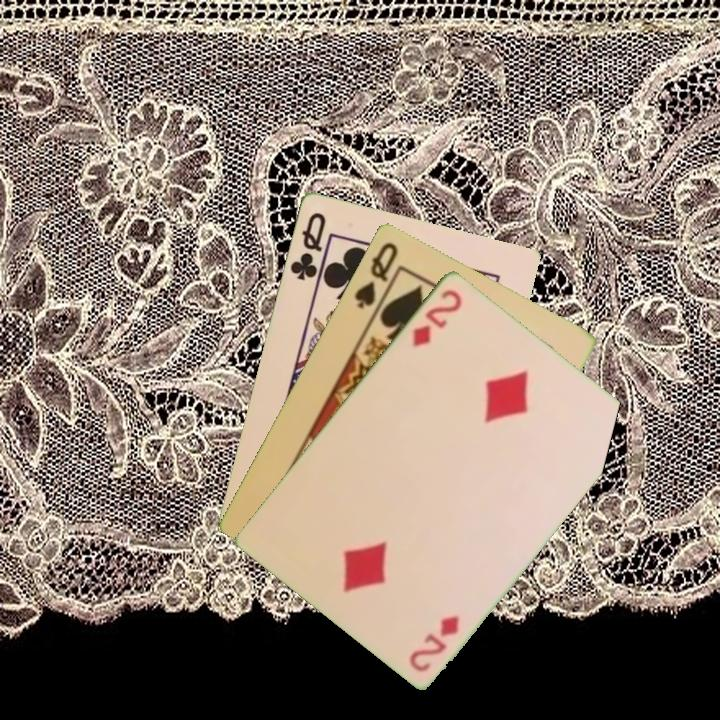2d: (408, 285, 465, 350), (405, 611, 462, 674)
Qc: (286, 208, 329, 283)
Qs: (350, 238, 401, 312)
